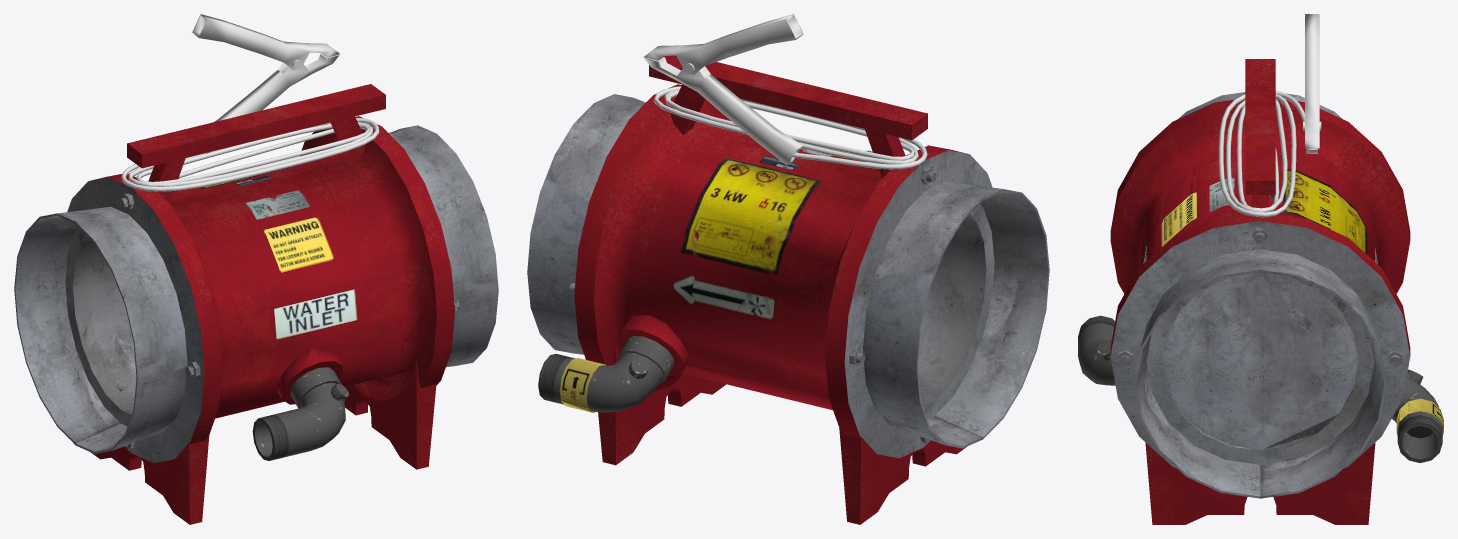
The picture shows the model from 3 angles, left to right: view 1: azimuth 30°, elevation 25°; view 2: azimuth 150°, elevation 25°; view 3: azimuth 270°, elevation 25°; orthographic projection. The views are drawn at different scales.
Visible parts, largest first — view 1: pCylinder25, extrudedSurface1, pCylinder28; view 2: pCylinder25, pCylinder28, extrudedSurface1; view 3: pCylinder25, extrudedSurface1, pCylinder28.
Boxes of the visible parts, bbox=[...] form: pCylinder25: bbox=[14, 84, 498, 524]; extrudedSurface1: bbox=[121, 118, 379, 191]; pCylinder28: bbox=[192, 14, 339, 153]; pCylinder25: bbox=[527, 55, 1049, 524]; pCylinder28: bbox=[644, 14, 803, 165]; extrudedSurface1: bbox=[653, 86, 927, 169]; pCylinder25: bbox=[1078, 59, 1443, 524]; extrudedSurface1: bbox=[1218, 91, 1304, 217]; pCylinder28: bbox=[1303, 14, 1321, 153].
Bounding box in the file's own units: 2.43 × 2.08 × 2.75.
1 material, 1 textured.
